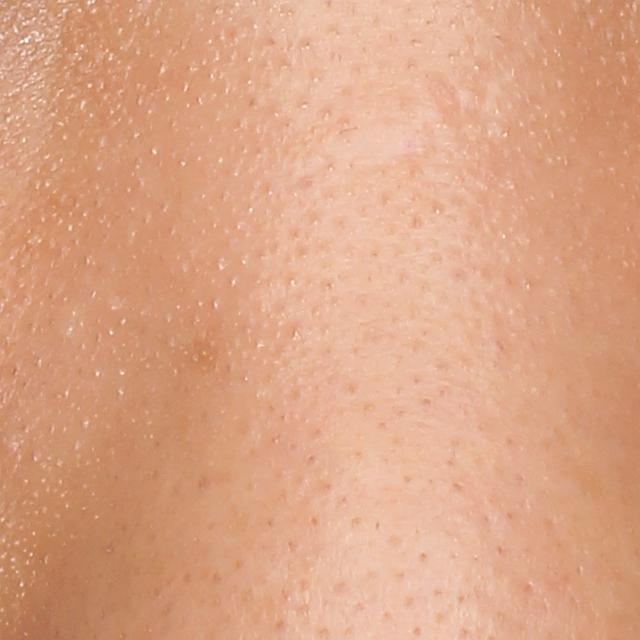atrophic_scar: (424, 73, 509, 140)
